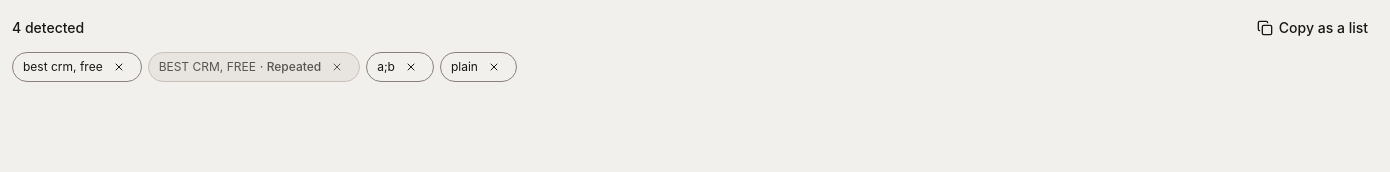
Test case: phrase preview › copies quoted separators without changing phrase identities when pasted again
Click the button with test id "phrases-copy" at (1312, 28), box left=1247, top=12, right=1378, bottom=44
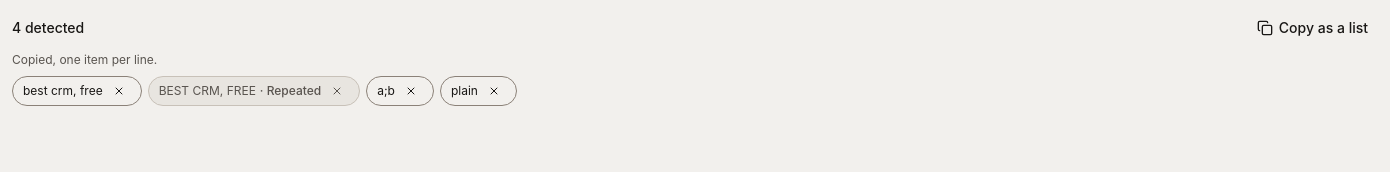
Now the message "Copied, one item per line." is shown, box left=12, top=52, right=157, bottom=67
